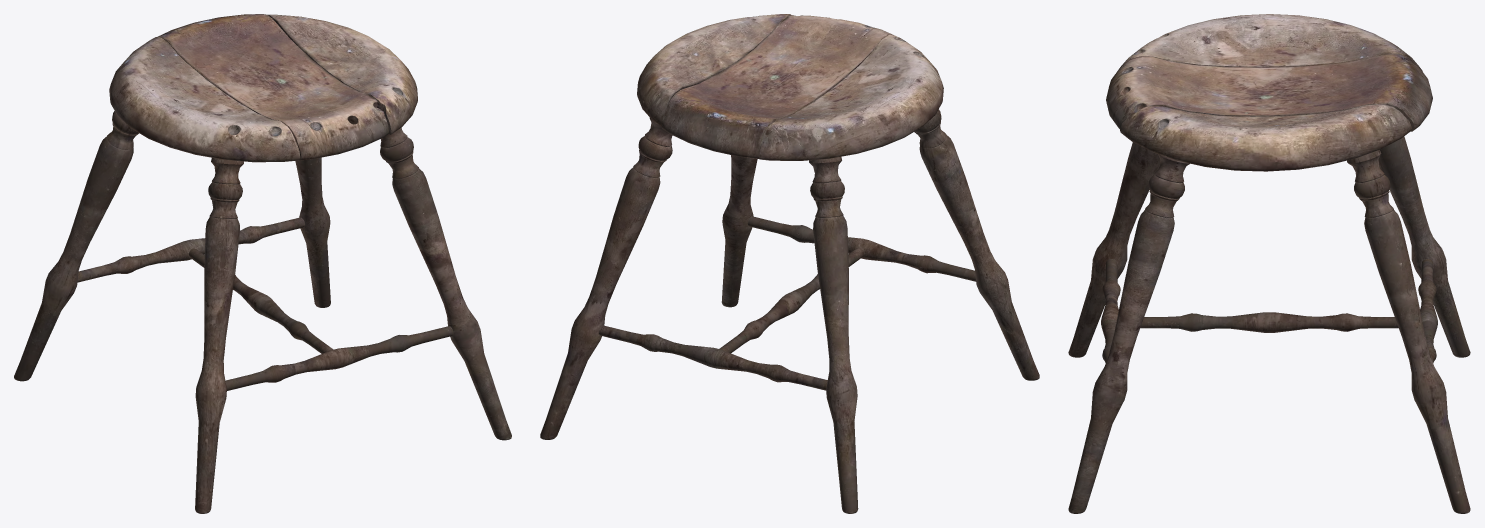
Rendered from wooden_stool_01.glb.
3 views of the same model, side by side, from view 1: azimuth 30°, elevation 25°; view 2: azimuth 150°, elevation 25°; view 3: azimuth 270°, elevation 25° (orthographic). The views are drawn at different scales.
Visible parts, largest first — view 1: wooden_stool_01; view 2: wooden_stool_01; view 3: wooden_stool_01.
Part boxes in pixels (bbox=[...]): wooden_stool_01: bbox=[14, 14, 511, 513]; wooden_stool_01: bbox=[540, 14, 1039, 513]; wooden_stool_01: bbox=[1068, 14, 1470, 513].
Size of the model in its own units: 0.4254 by 0.4373 by 0.4424.
1 material, 1 textured.
